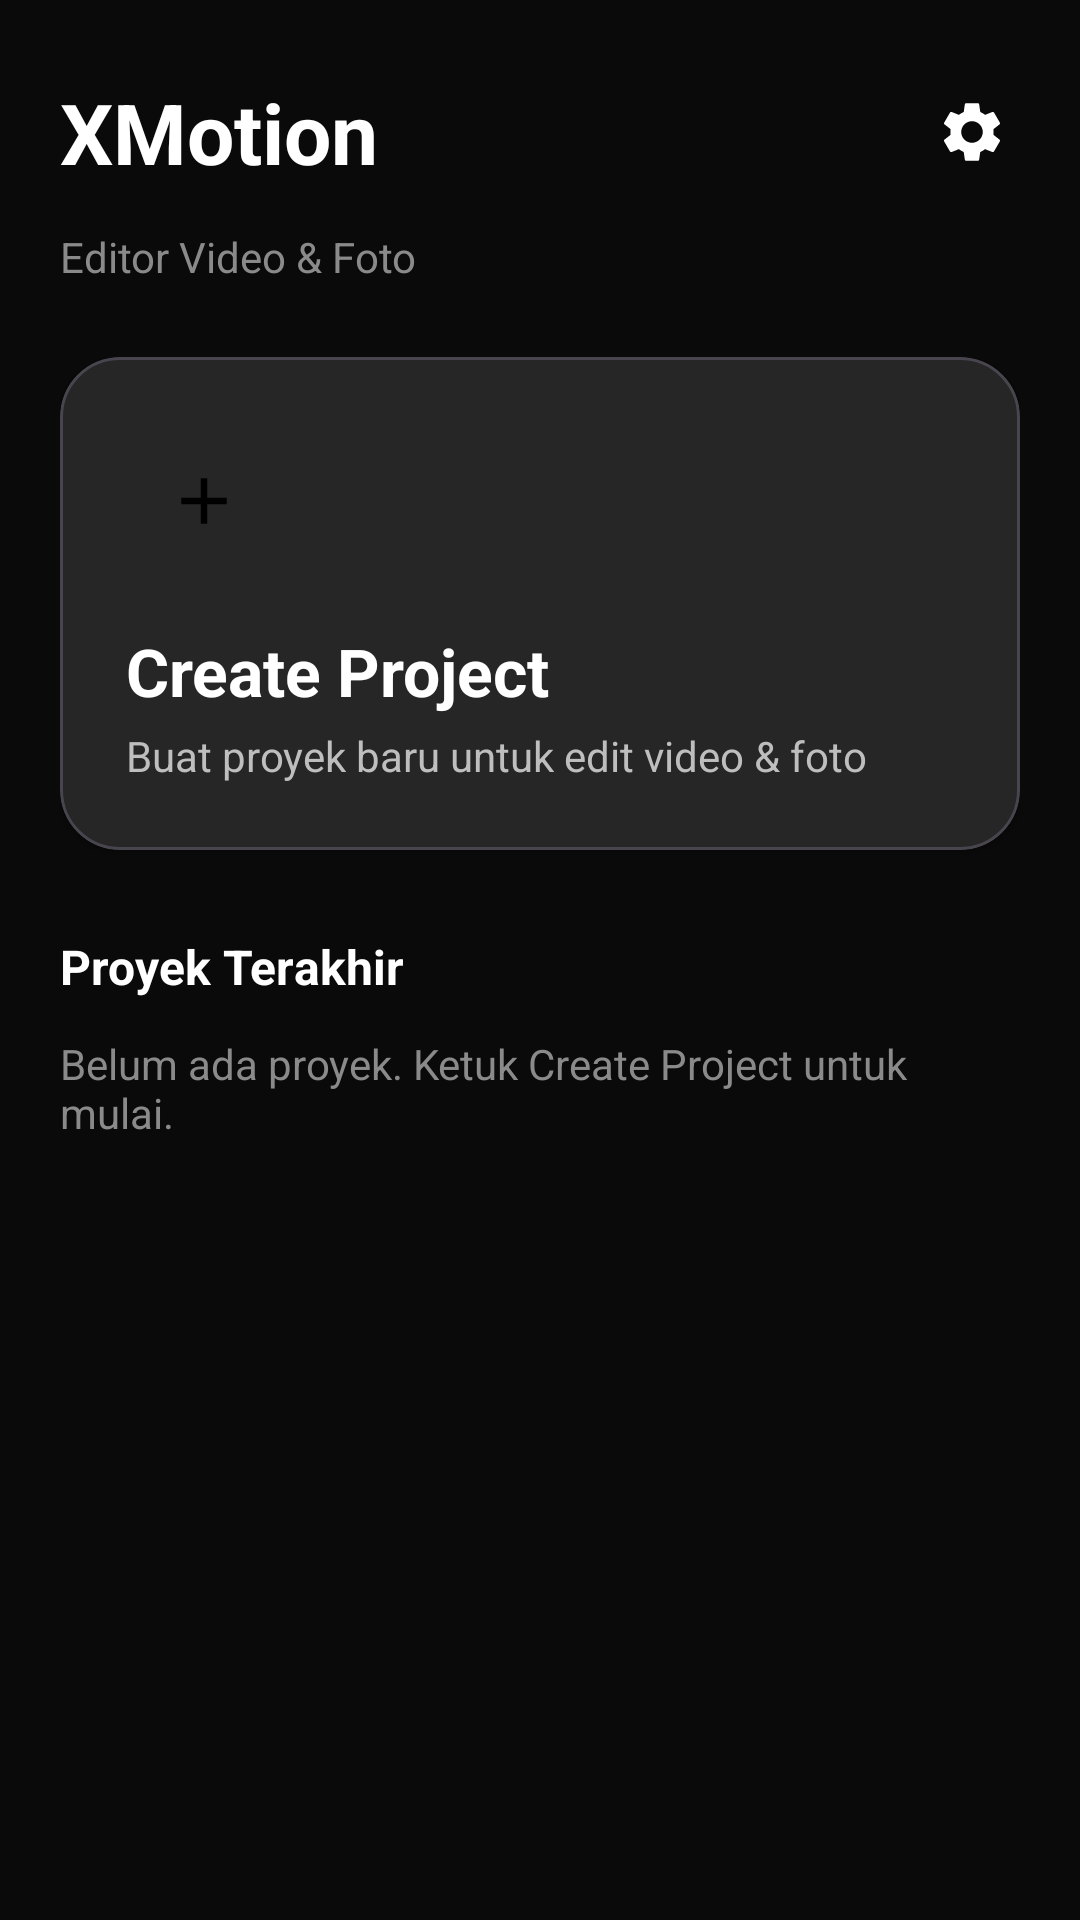

Icon bounding boxes for this 1080×1920 phone screenshot, format box=[x1, y1, x2, y2]:
Plus: box=[181, 478, 227, 524]
Settings: box=[944, 103, 1000, 161]
